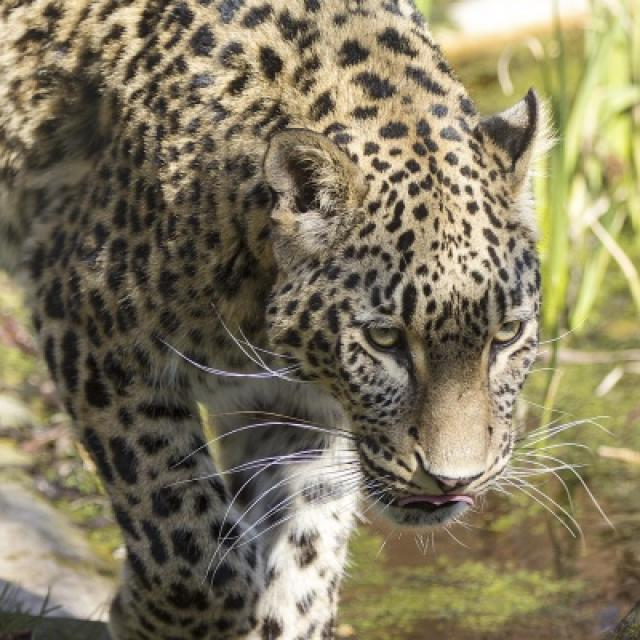Jaguar: (0, 0, 558, 638)
